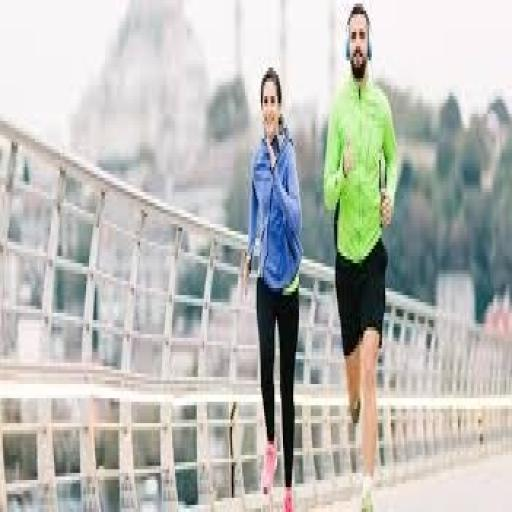running: (321, 4, 400, 508), (240, 64, 306, 508)
